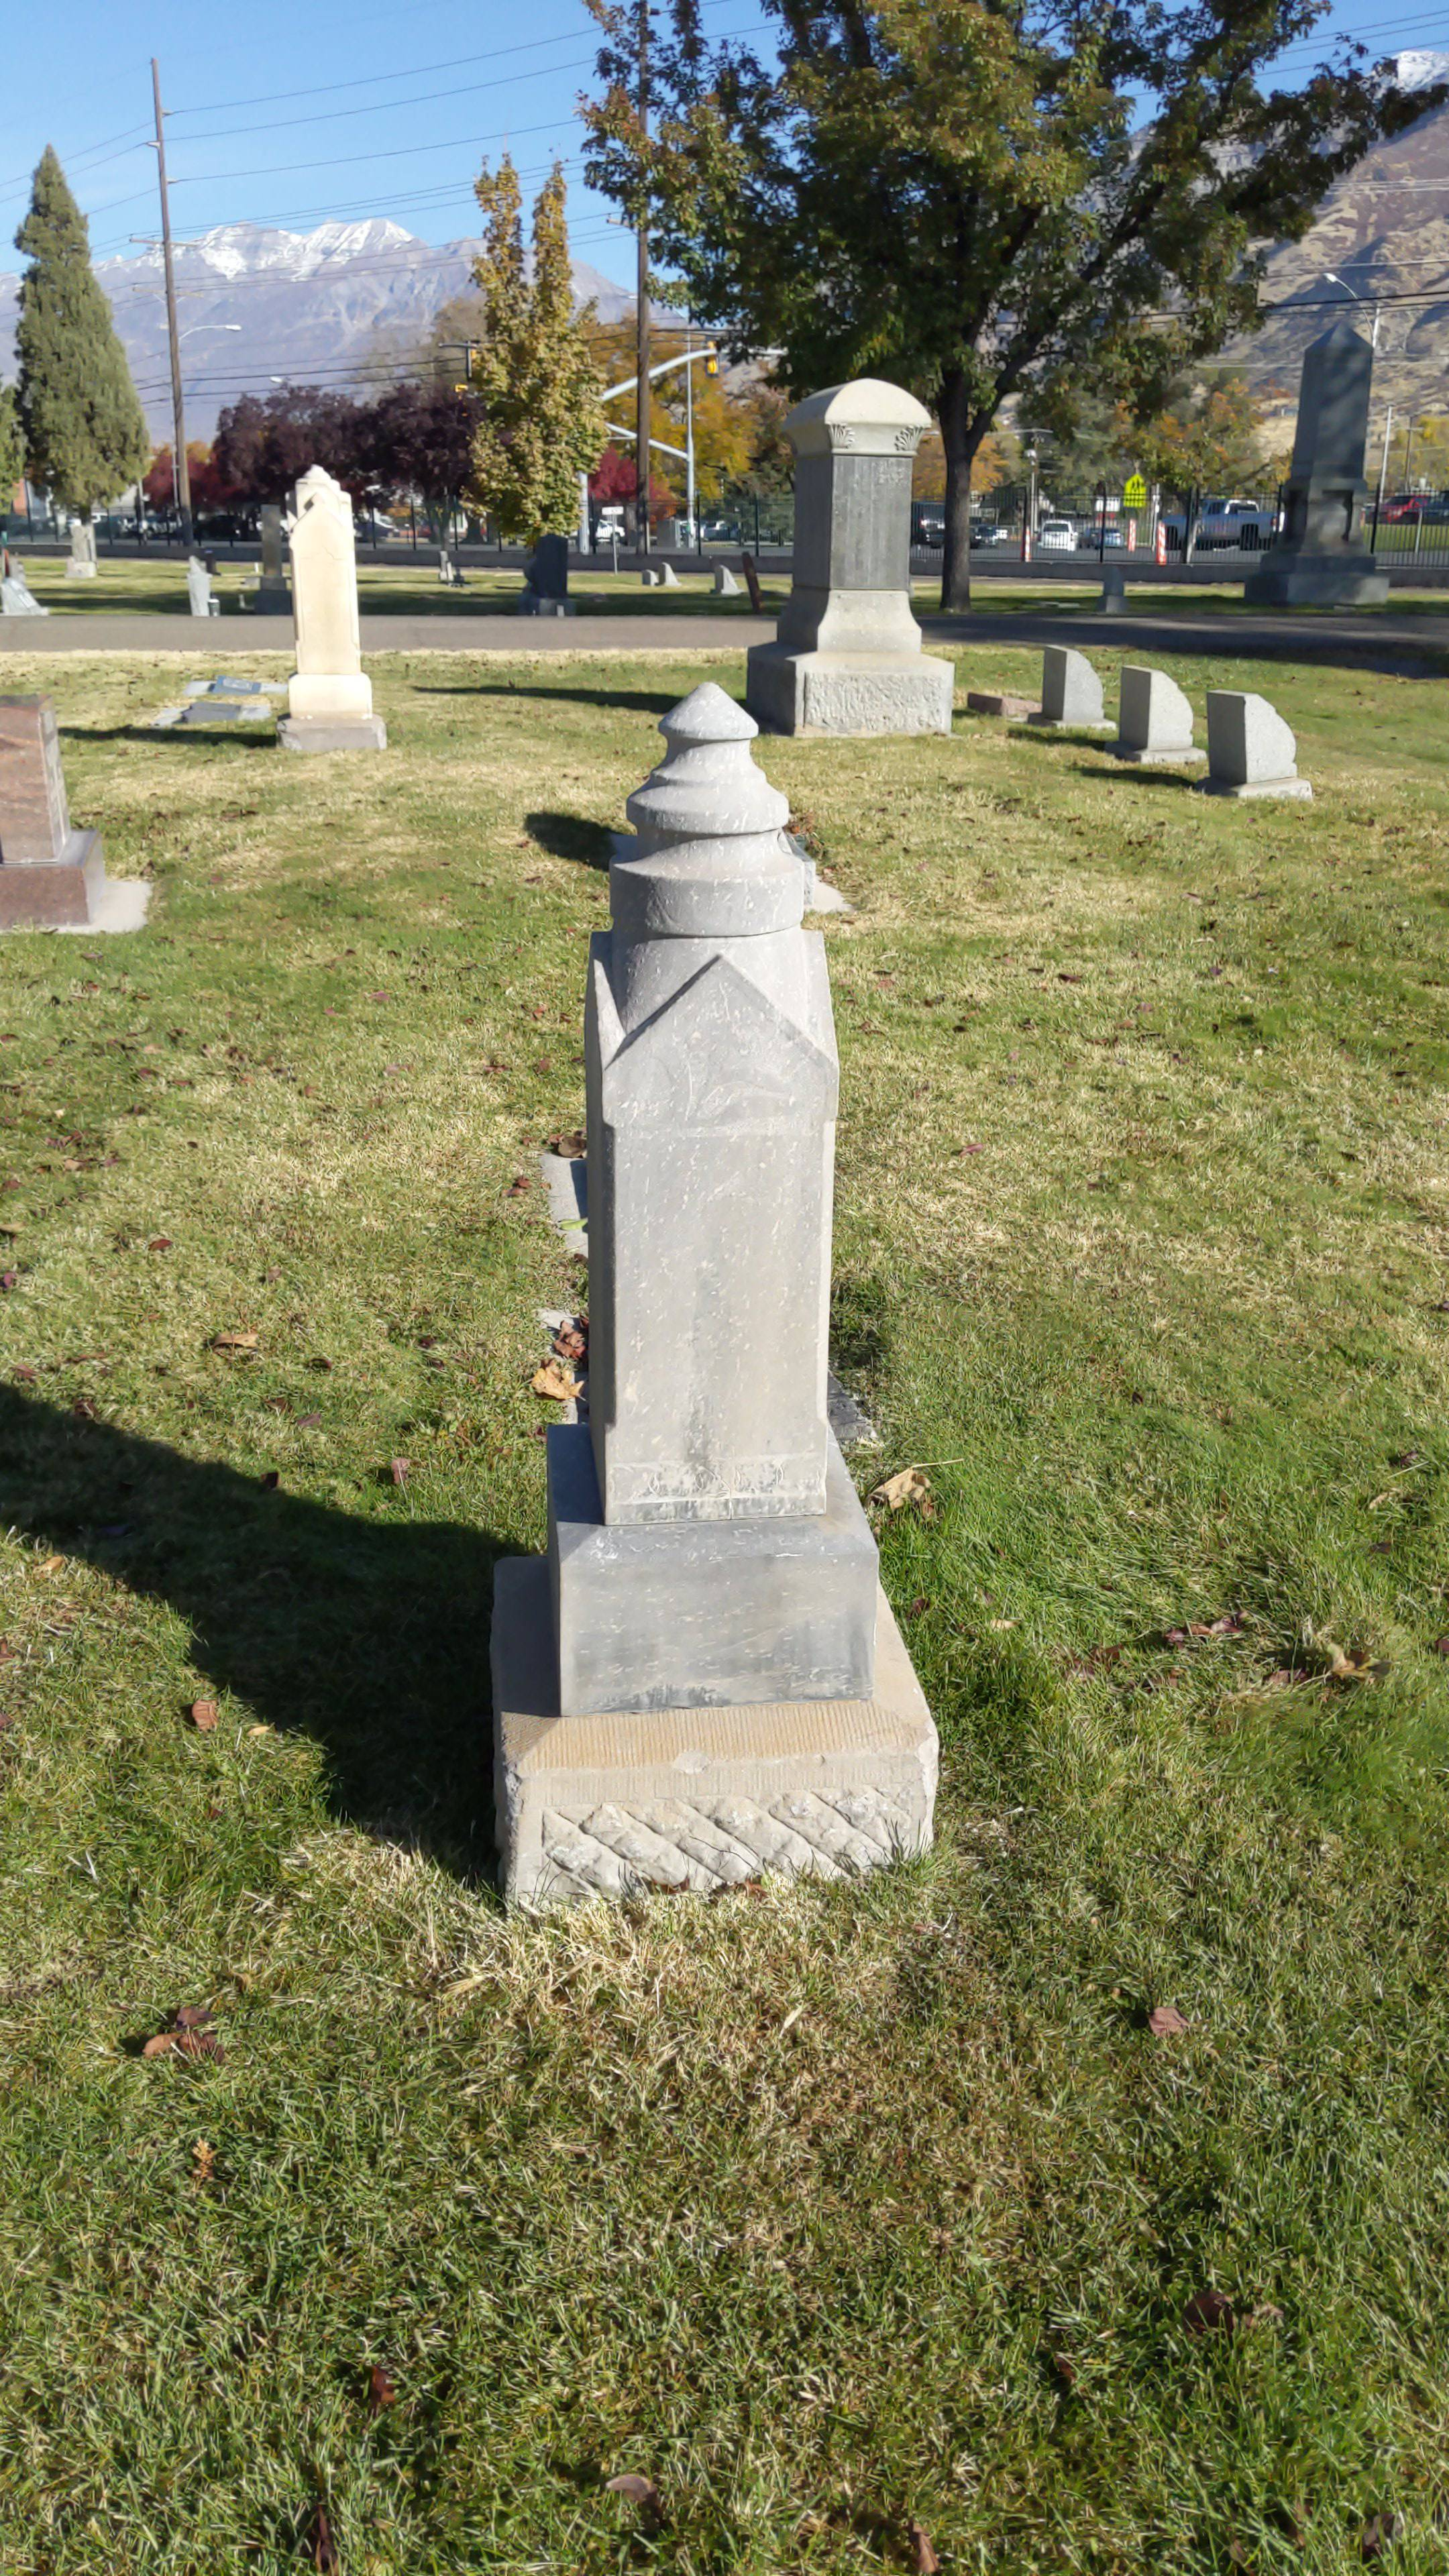obelisk: (559, 688, 878, 1702)
